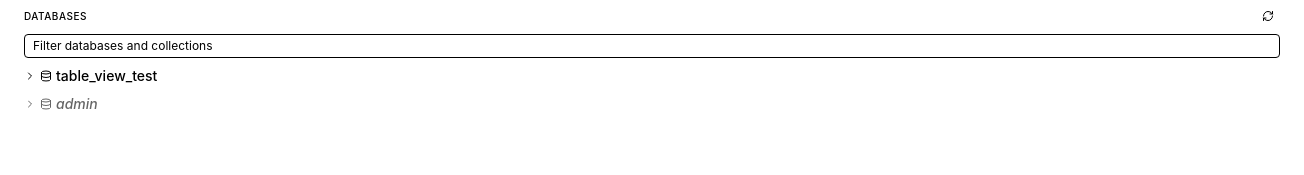
Test: DocumentDatabaseTree › renders source metadata and omits unknown collection counts
Step 1. Click the list item with aria-label "table_view_test database" → (107, 75), box [12,62,1292,90]
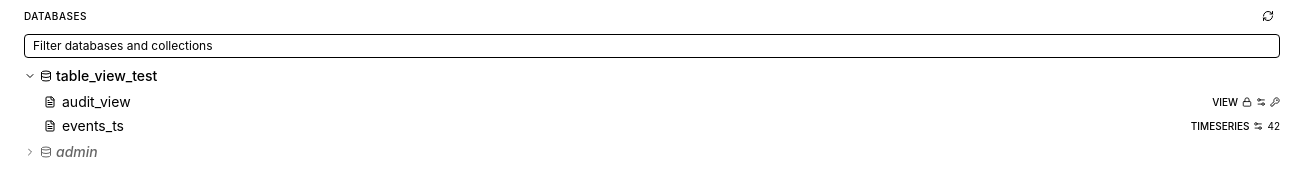
Check: the list item with aria-label "audit_view collection" is shown, box [12,90,1292,114]
Check: the text named "audit_view collection type: view" is shown, box [1212,94,1238,108]
Check: the picture named "audit_view is read-only" is shown, box [1242,96,1252,106]
